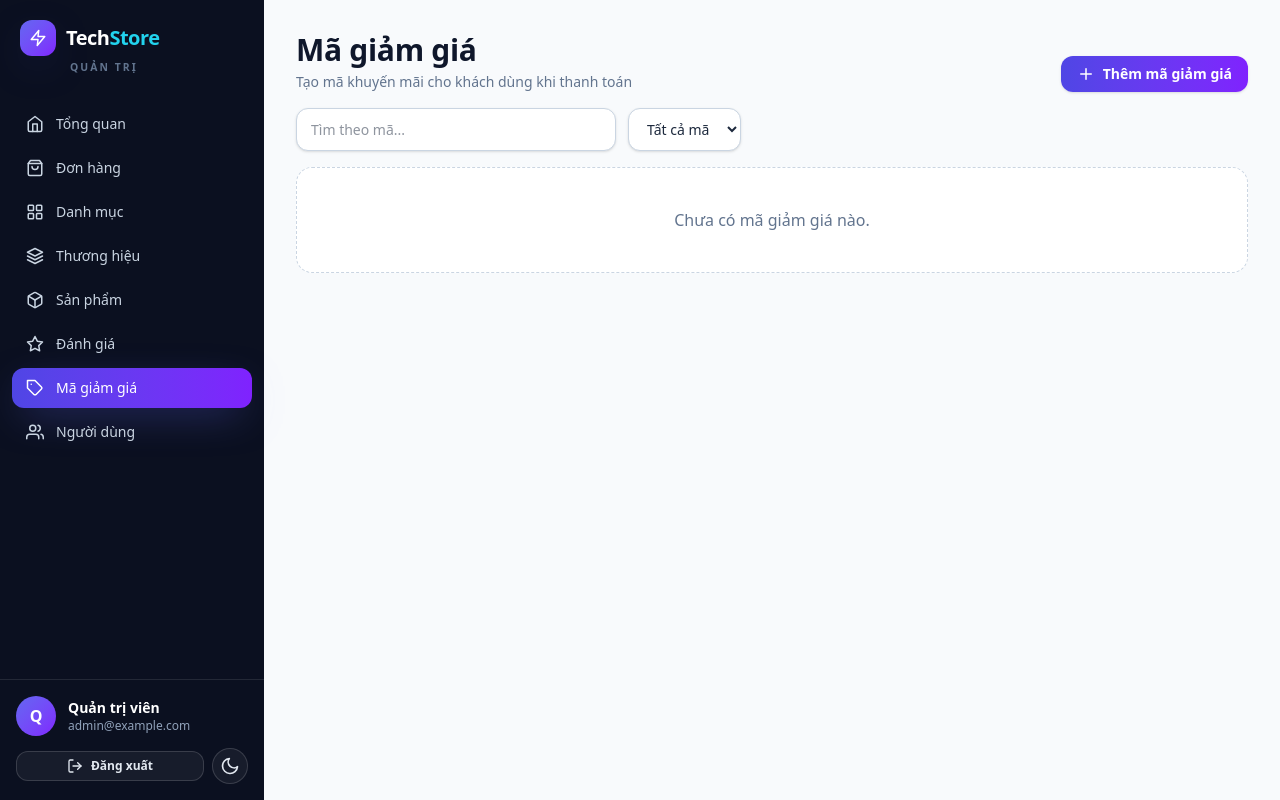
Trang mã giảm giá (US-24) › chưa có mã nào thì báo trống; có lọc mà không khớp thì báo khác
The width and height of the screenshot is (1280, 800).
Expected: the text "Chưa có mã giảm giá nào." is shown, [296,167,1248,273]
Step 1. Select "Đã tắt" in the dropdown named "Lọc theo bật tắt" → (684, 130), box [628,108,741,151]
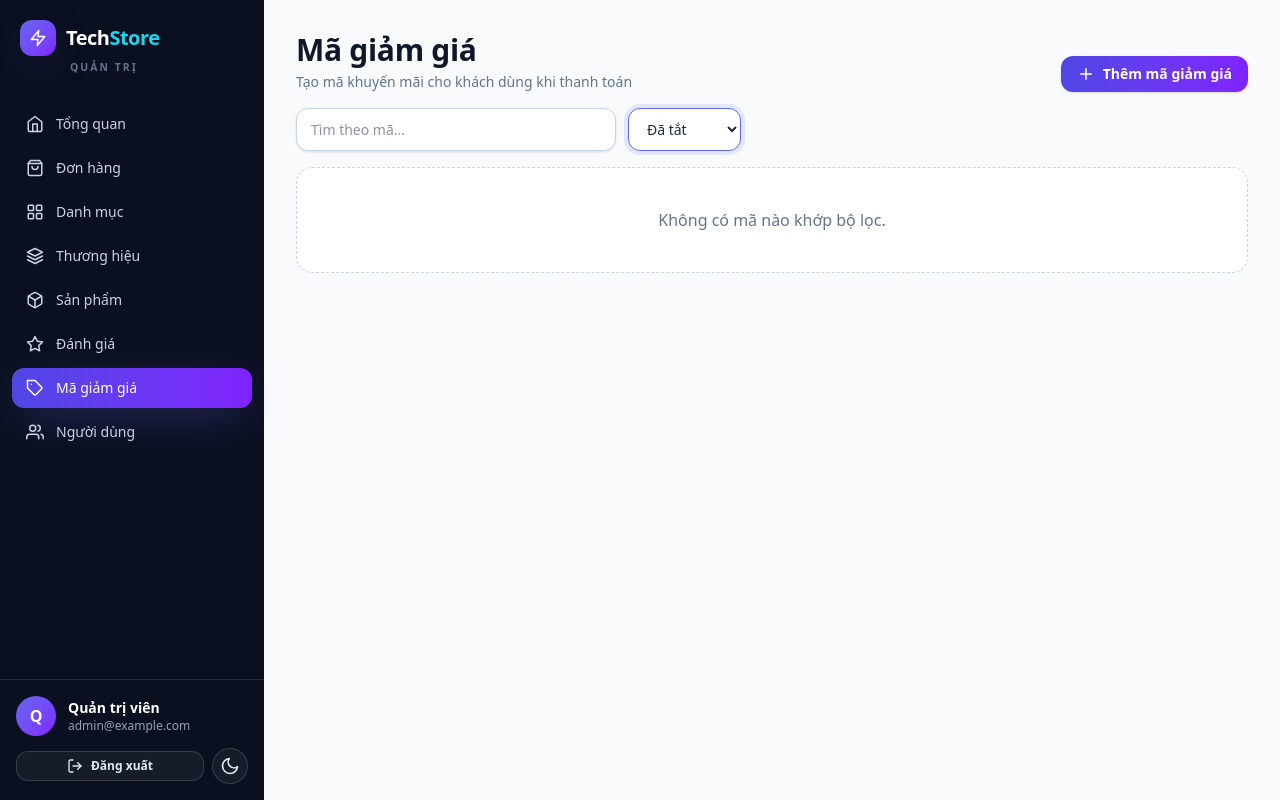
Now the text "Không có mã nào khớp bộ lọc." is shown, box [296,167,1248,273]
